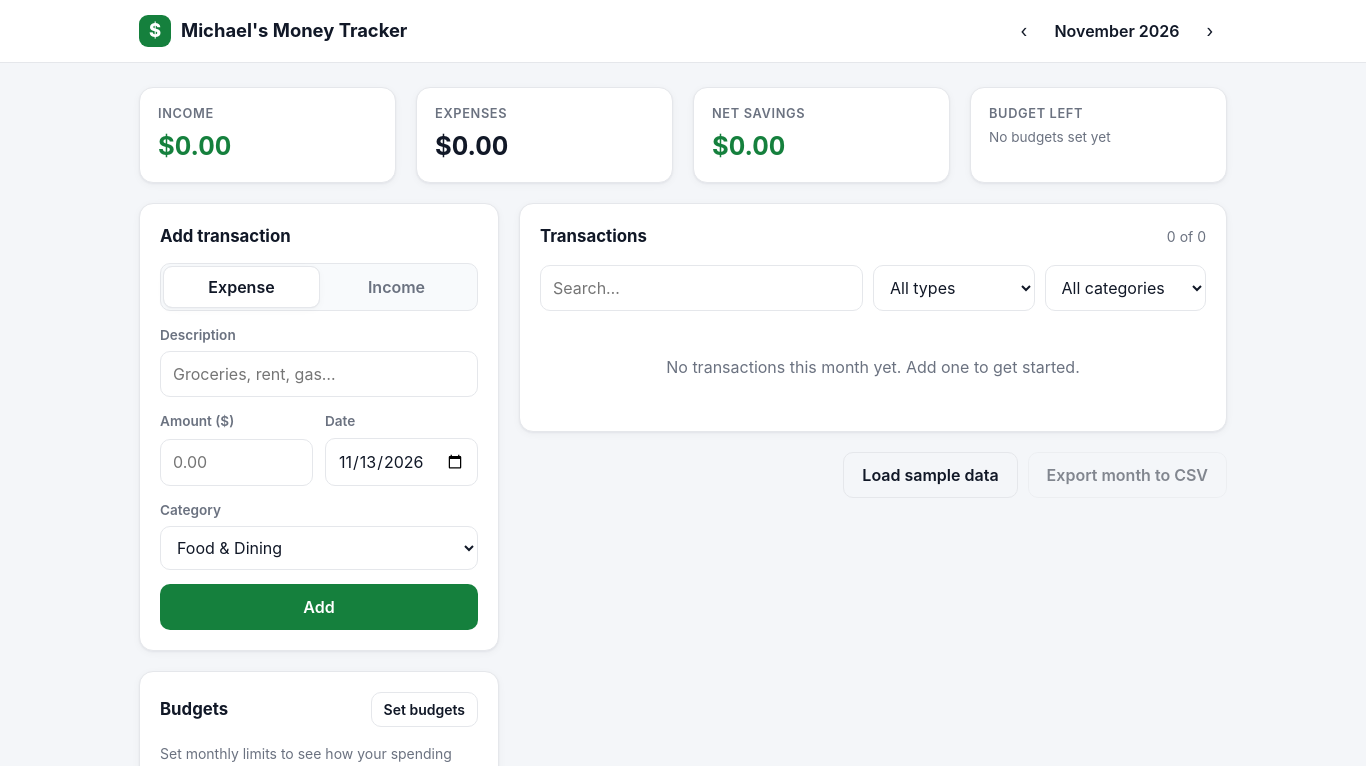
it: deleting a transaction removes it and updates totals
Click the button "Expense". click: click(242, 287)
box: x1=164 y1=267 x2=319 y2=307
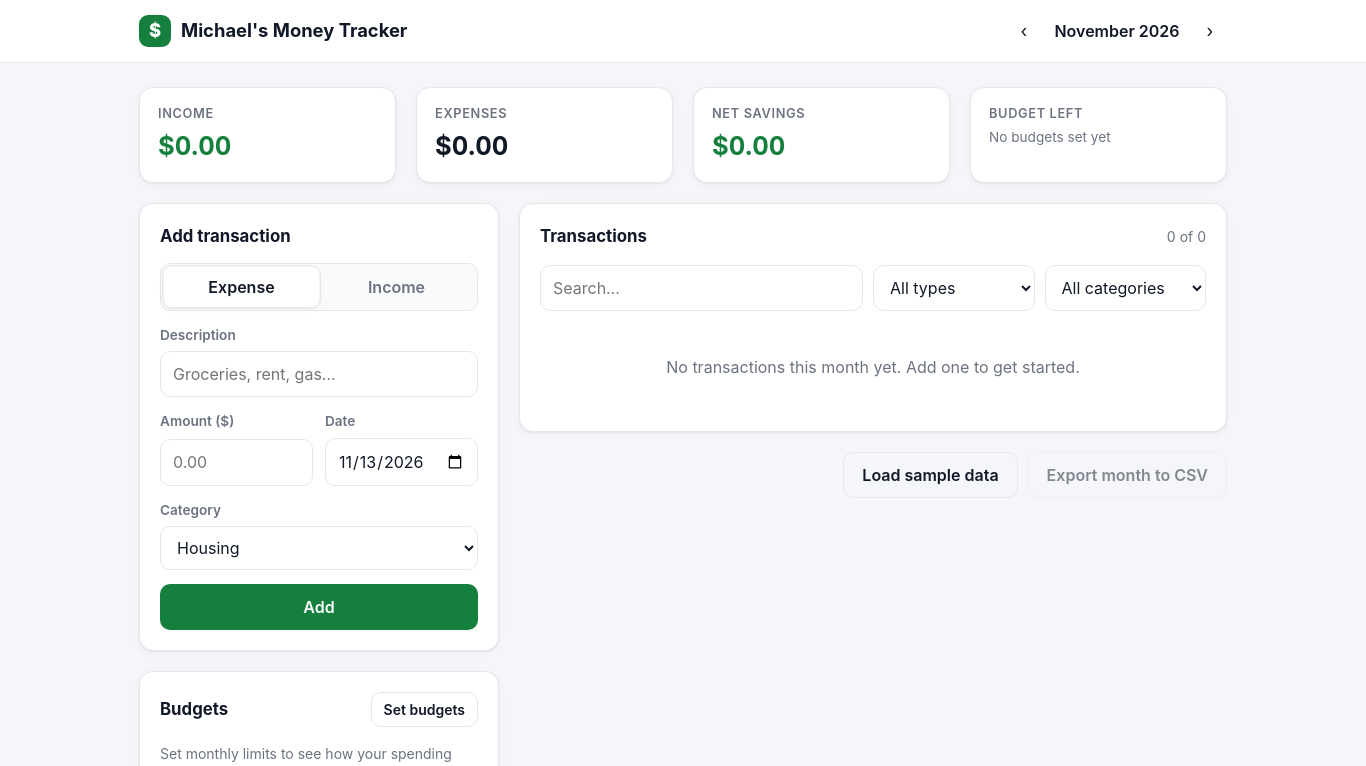
Type "Coffee" into the field labelled "Description". click: (319, 374)
box: x1=160 y1=351 x2=478 y2=397
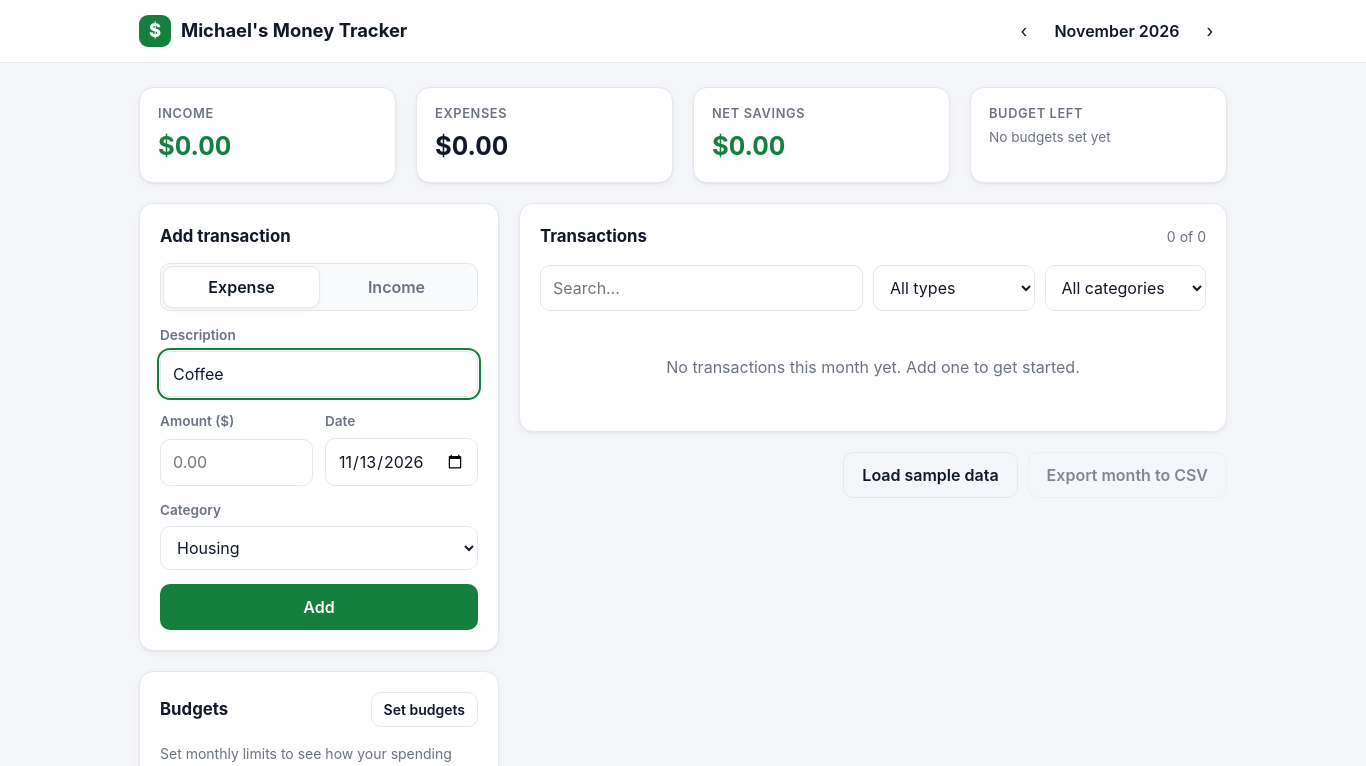
Type "5" into the number field labelled "Amount ($)". click: (236, 462)
box: x1=160 y1=438 x2=313 y2=486
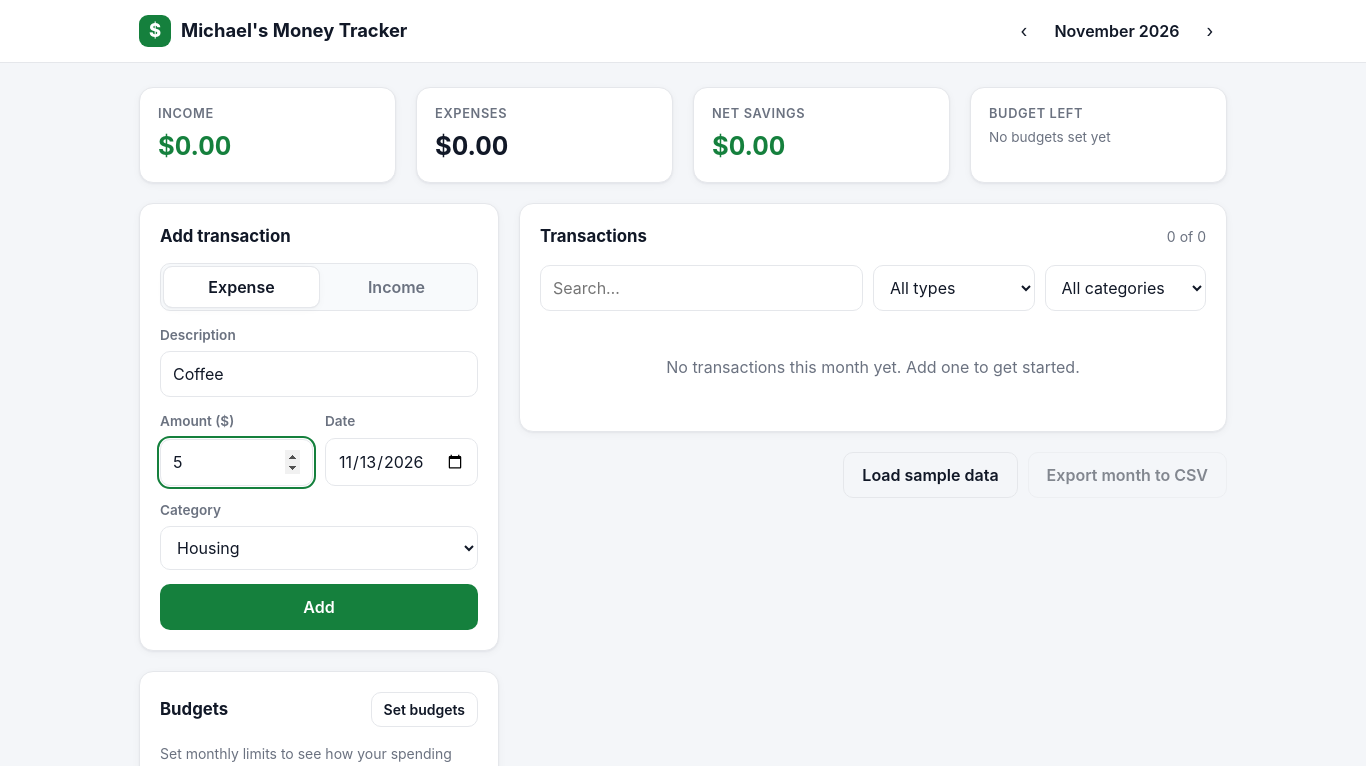
Click the button "Add". click: click(319, 607)
box: x1=160 y1=584 x2=478 y2=630
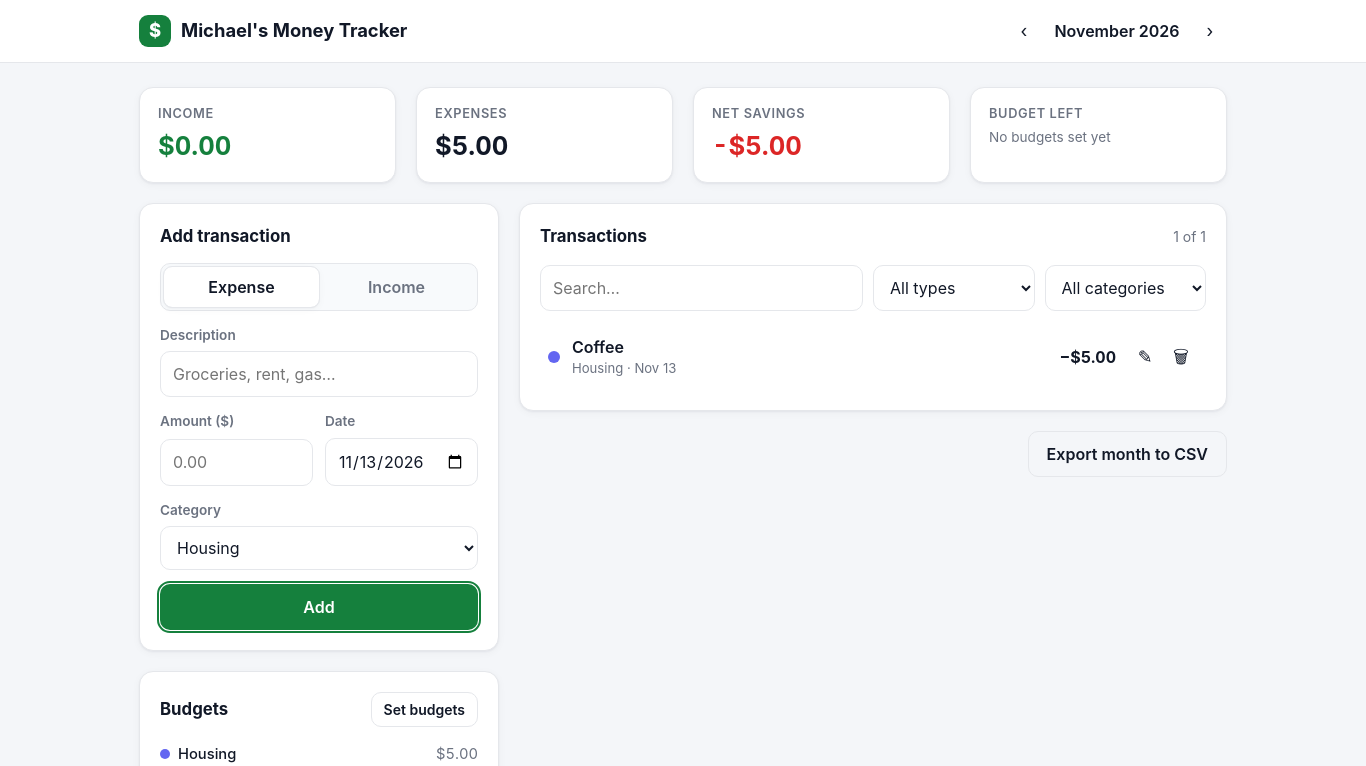
Click the button named "Delete Coffee". click: click(1181, 357)
box: x1=1164 y1=340 x2=1198 y2=374
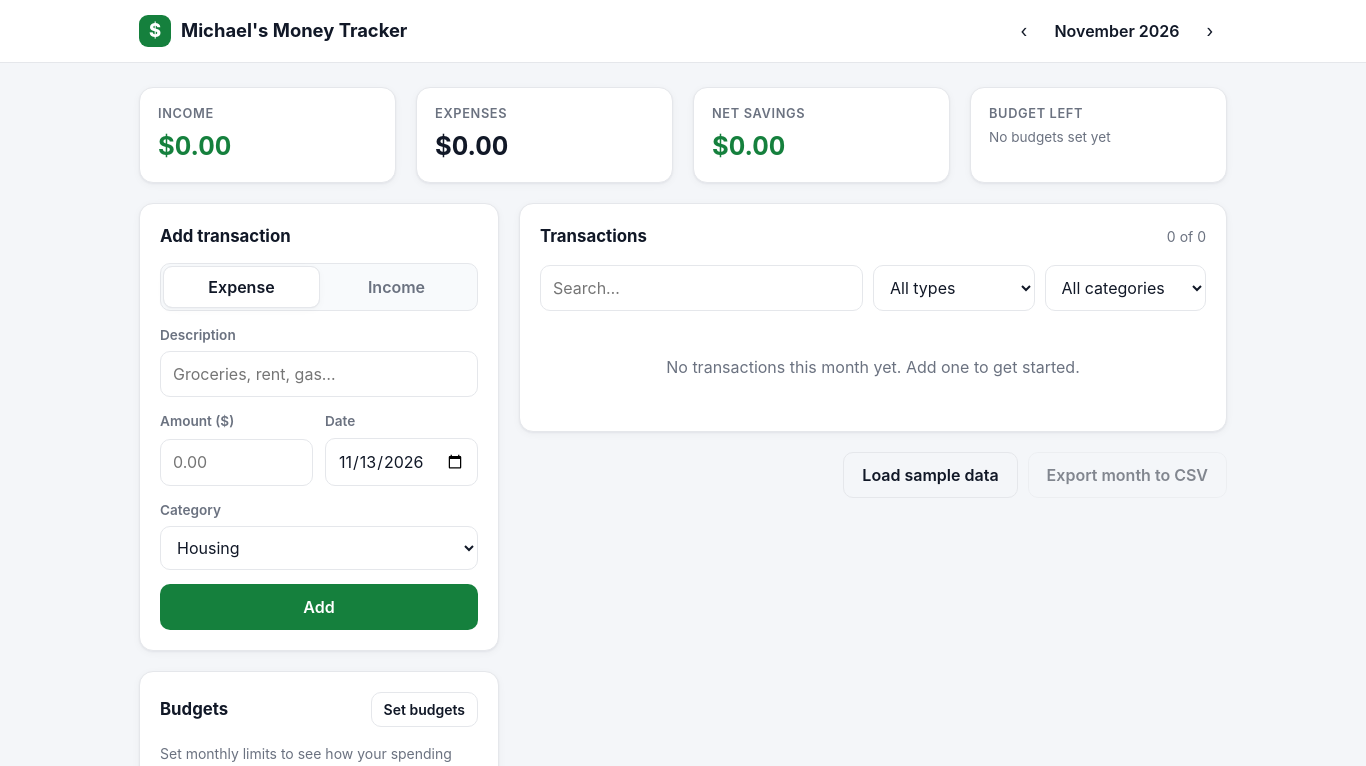
Expected: the text "Coffee" is gone
Expected: the text with test id "expense-total" reads "$0.00", x1=435 y1=130 x2=508 y2=161
